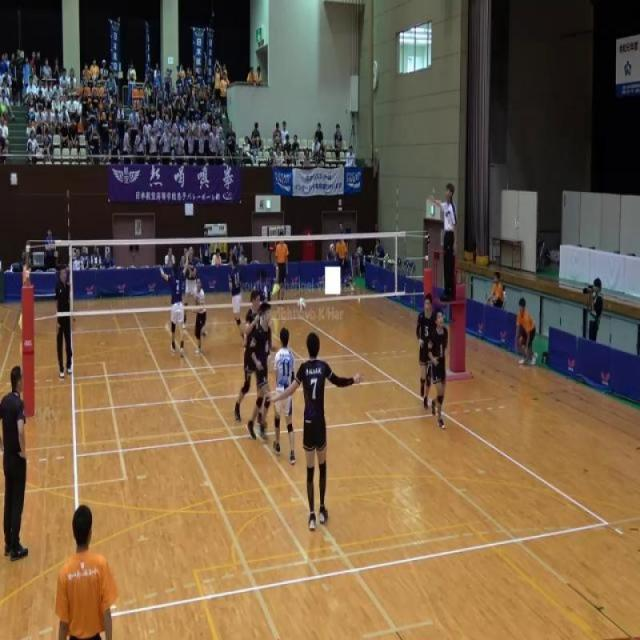volleyball: (297, 296, 306, 312), (330, 244, 334, 252)
